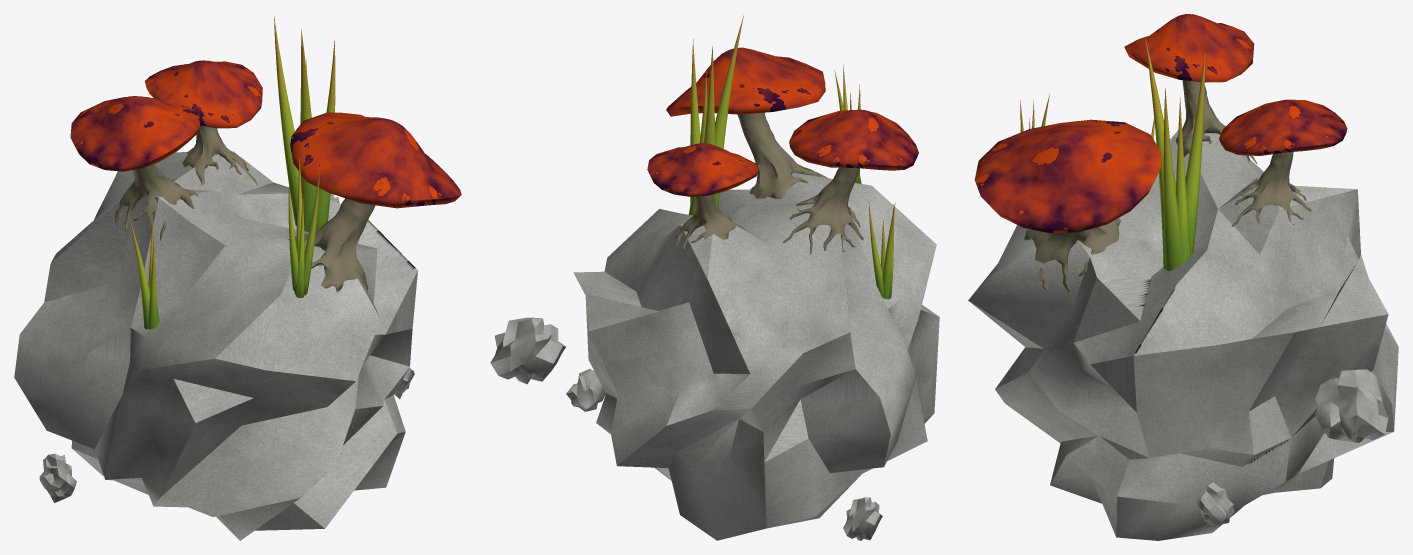
File: Ile 9.fbx
3 renders of one model, left to right at view 1: azimuth 30°, elevation 25°; view 2: azimuth 150°, elevation 25°; view 3: azimuth 270°, elevation 25°, orthographic. The views are drawn at different scales.
Visible parts, largest first — view 1: Roche_4, Champignon_1, Herbe_1, Roche_3; view 2: Roche_4, Champignon_1, Herbe_1, Roche_2, Roche_3, Roche; view 3: Roche_4, Champignon_1, Herbe_1, Roche_2, Roche.
Boxes of the visible parts, x1,y1,x2,y2 form: Roche_4: (14, 151, 417, 540); Champignon_1: (70, 60, 461, 292); Herbe_1: (129, 16, 335, 329); Roche_3: (39, 453, 76, 502); Roche_4: (573, 172, 939, 540); Champignon_1: (647, 47, 918, 254); Herbe_1: (688, 16, 895, 299); Roche_2: (490, 317, 566, 384); Roche_3: (843, 497, 882, 540); Roche: (566, 369, 605, 411); Roche_4: (968, 127, 1398, 540); Champignon_1: (974, 14, 1347, 292); Herbe_1: (1020, 36, 1205, 270); Roche_2: (1315, 369, 1388, 442); Roche: (1195, 481, 1234, 527).
Bounding box in the file's own units: 152 × 185 × 149.
6 materials, 6 textured.
